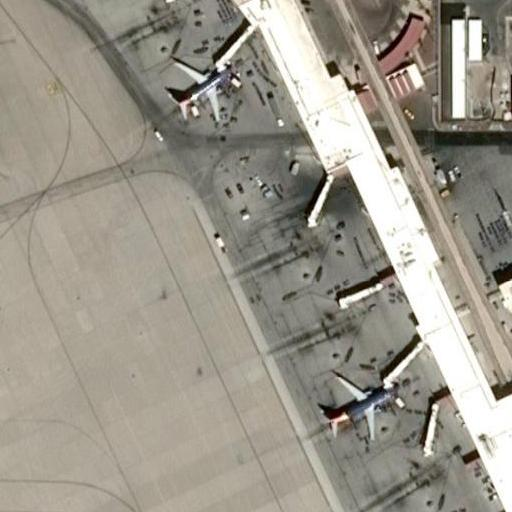Aircraft: (318, 369, 395, 444), (164, 54, 229, 122)
